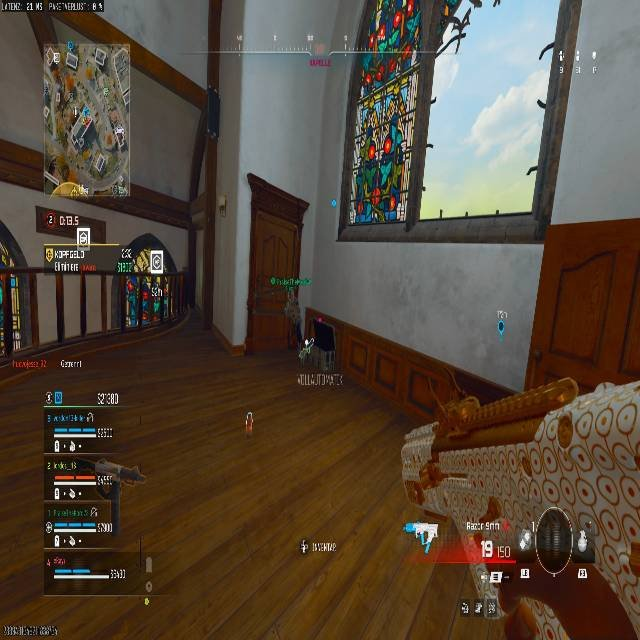player: (281, 295, 302, 351)
